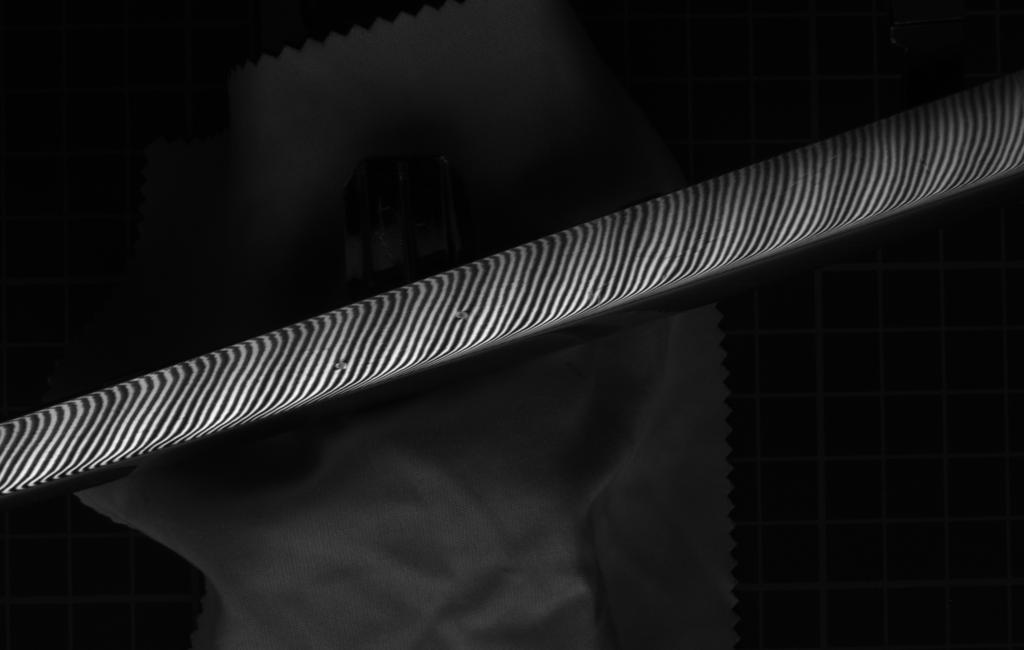Pierced: (330, 356, 354, 375), (450, 307, 475, 324)
